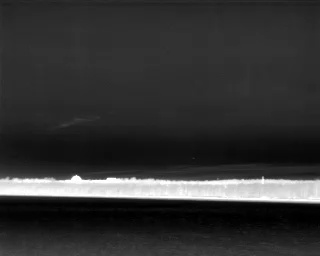HELICOPTER: (191, 156, 196, 161)
